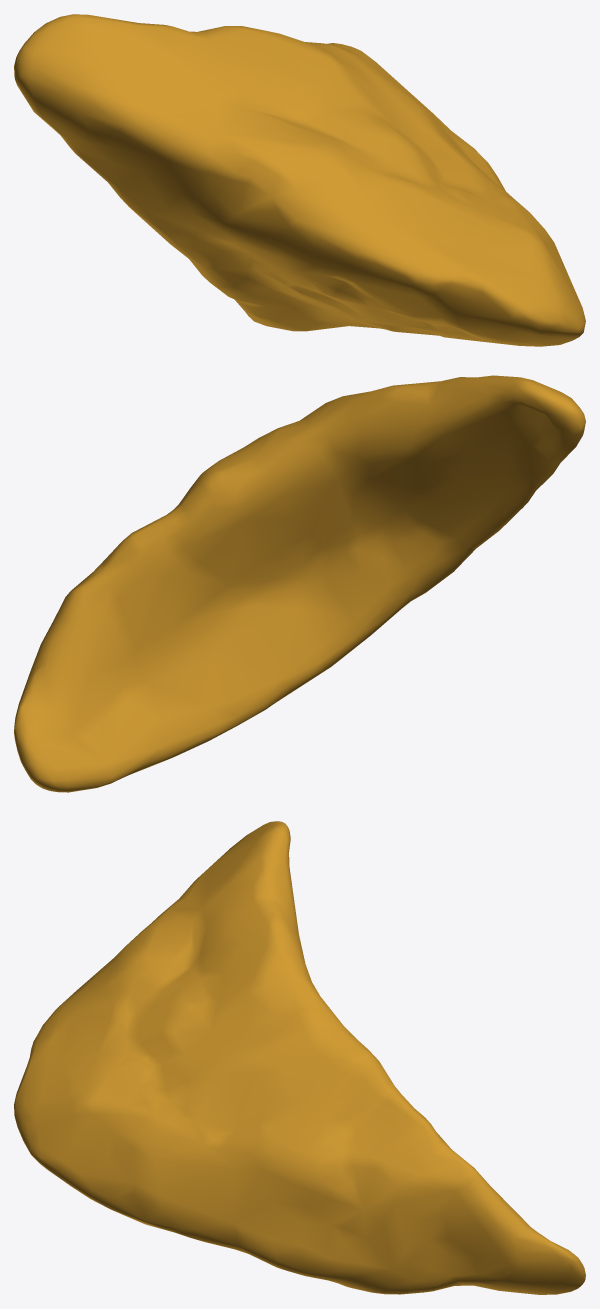
3 views of the same model, one above another, from view 1: azimuth 30°, elevation 25°; view 2: azimuth 150°, elevation 25°; view 3: azimuth 270°, elevation 25° (orthographic). The views are drawn at different scales.
Parts seen in each view (by area): view 1: 右侧肾上腺; view 2: 右侧肾上腺; view 3: 右侧肾上腺.
Part boxes in pixels (x1,y1,x2,y2): 右侧肾上腺: (14,14,585,346); 右侧肾上腺: (14,375,585,792); 右侧肾上腺: (14,821,585,1294).
Bounding box in the file's own units: 0.047 × 0.0401 × 0.0623.
